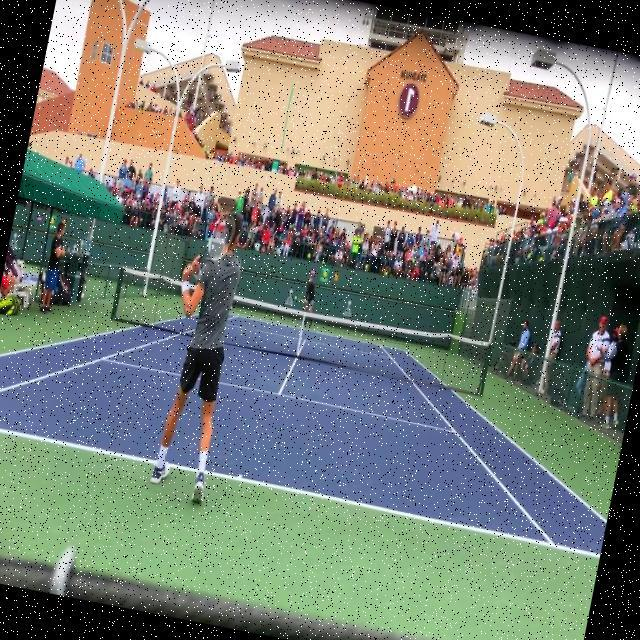court: (0, 267, 632, 557)
net: (108, 264, 495, 398)
player: (138, 202, 258, 509)
